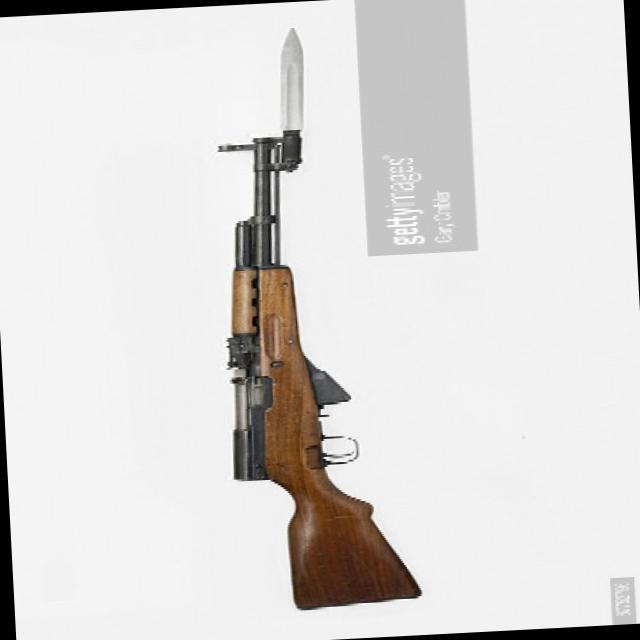long weapon: (186, 11, 430, 632)
